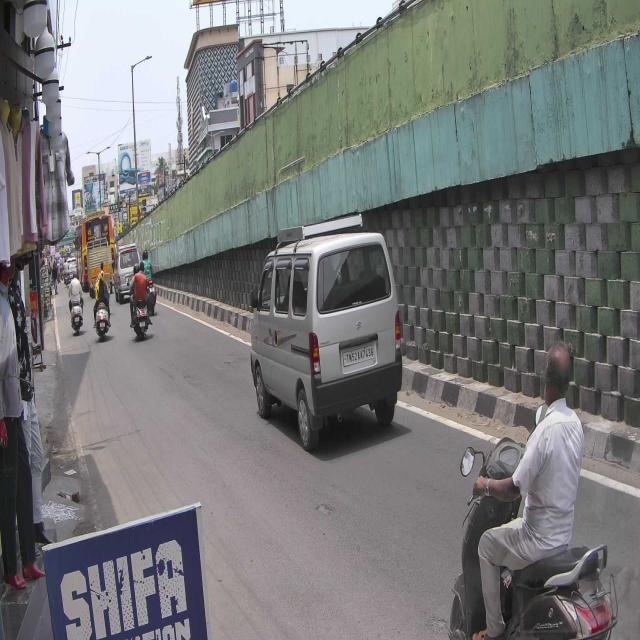single_rider: (450, 339, 620, 640)
